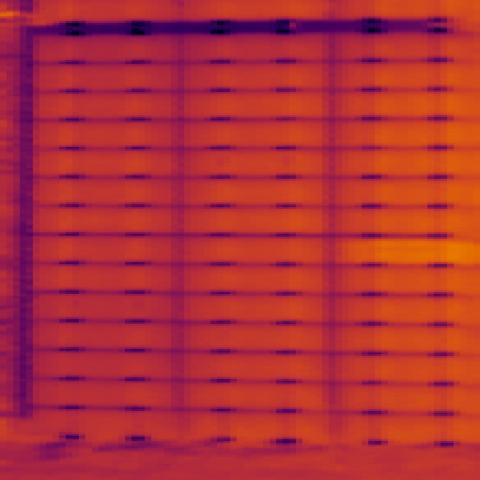fault: (350, 238, 477, 263)
